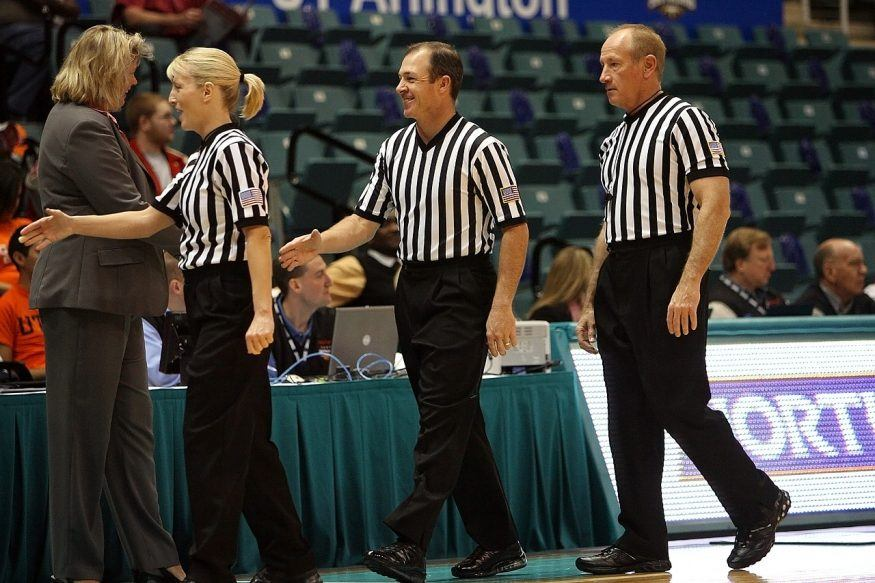face: (151, 51, 268, 125), (584, 25, 672, 113), (387, 45, 478, 122)
player: (568, 18, 805, 583), (336, 37, 563, 583), (110, 51, 329, 583)
